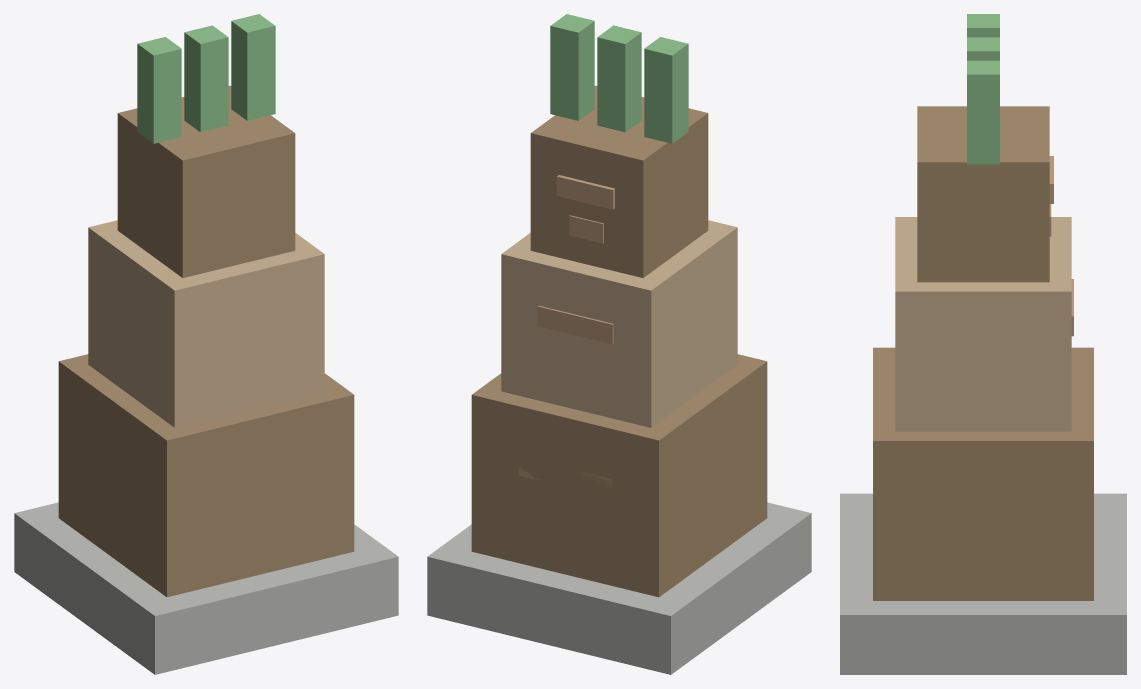
File: 18-Casas_decor_totem_chico.glb
3 views of the same model, side by side, from view 1: azimuth 30°, elevation 25°; view 2: azimuth 150°, elevation 25°; view 3: azimuth 270°, elevation 25° (orthographic).
Visible parts, largest first — view 1: SM_Totem_Cara, SM_Totem_Cara.001, SM_Totem_Base, SM_Totem_Cara.002, SM_Totem_Penacho, SM_Totem_Penacho.001, SM_Totem_Penacho.002; view 2: SM_Totem_Cara, SM_Totem_Cara.001, SM_Totem_Base, SM_Totem_Cara.002, SM_Totem_Penacho, SM_Totem_Penacho.001, SM_Totem_Penacho.002, SM_Totem_Ojos.001, SM_Totem_Ojos.002, SM_Totem_Boca.002; view 3: SM_Totem_Cara, SM_Totem_Cara.001, SM_Totem_Base, SM_Totem_Cara.002, SM_Totem_Penacho.002, SM_Totem_Penacho, SM_Totem_Penacho.001.
Boxes of the visible parts, x1,y1,x2,y2 form: SM_Totem_Cara: (58,354,354,597); SM_Totem_Cara.001: (88,220,324,427); SM_Totem_Base: (14,502,398,674); SM_Totem_Cara.002: (117,85,295,277); SM_Totem_Penacho: (137,37,181,143); SM_Totem_Penacho.001: (184,25,228,132); SM_Totem_Penacho.002: (231,14,275,120); SM_Totem_Cara: (471,354,767,597); SM_Totem_Cara.001: (501,220,737,427); SM_Totem_Base: (427,502,811,674); SM_Totem_Cara.002: (530,85,708,277); SM_Totem_Penacho: (644,37,688,143); SM_Totem_Penacho.001: (597,25,641,132); SM_Totem_Penacho.002: (550,14,594,120); SM_Totem_Ojos.001: (537,305,613,344); SM_Totem_Ojos.002: (556,175,614,209); SM_Totem_Boca.002: (569,215,603,243); SM_Totem_Cara: (873,347,1093,600); SM_Totem_Cara.001: (895,217,1071,431); SM_Totem_Base: (840,493,1126,674); SM_Totem_Cara.002: (917,106,1049,282); SM_Totem_Penacho.002: (967,60,999,164); SM_Totem_Penacho: (967,14,999,37); SM_Totem_Penacho.001: (967,37,999,60).
Size of the model in its own units: 0.26 by 0.57 by 0.26.
